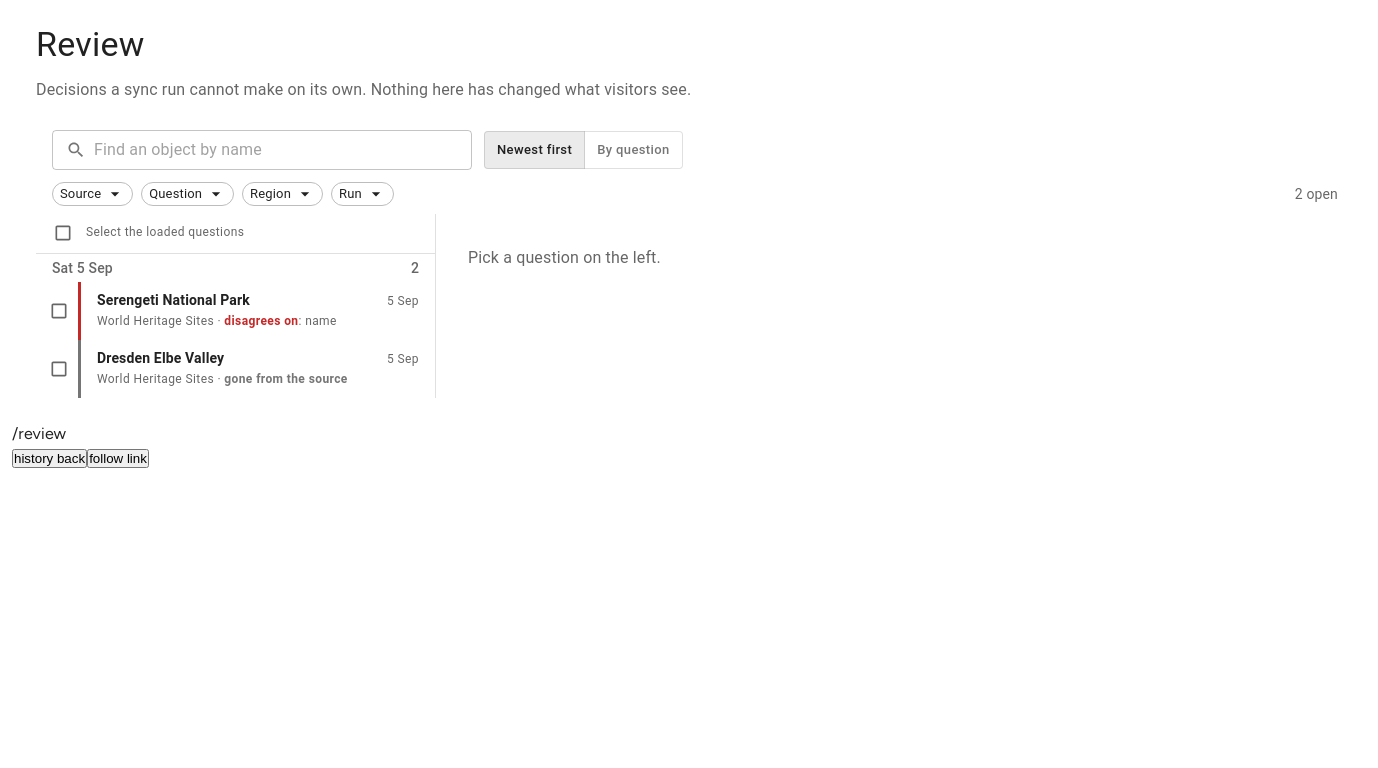
Test: ReviewPage › puts the question a curator opened into the address
Click the button "Dresden Elbe Valley".
click(256, 369)  # box x1=78 y1=340 x2=435 y2=398
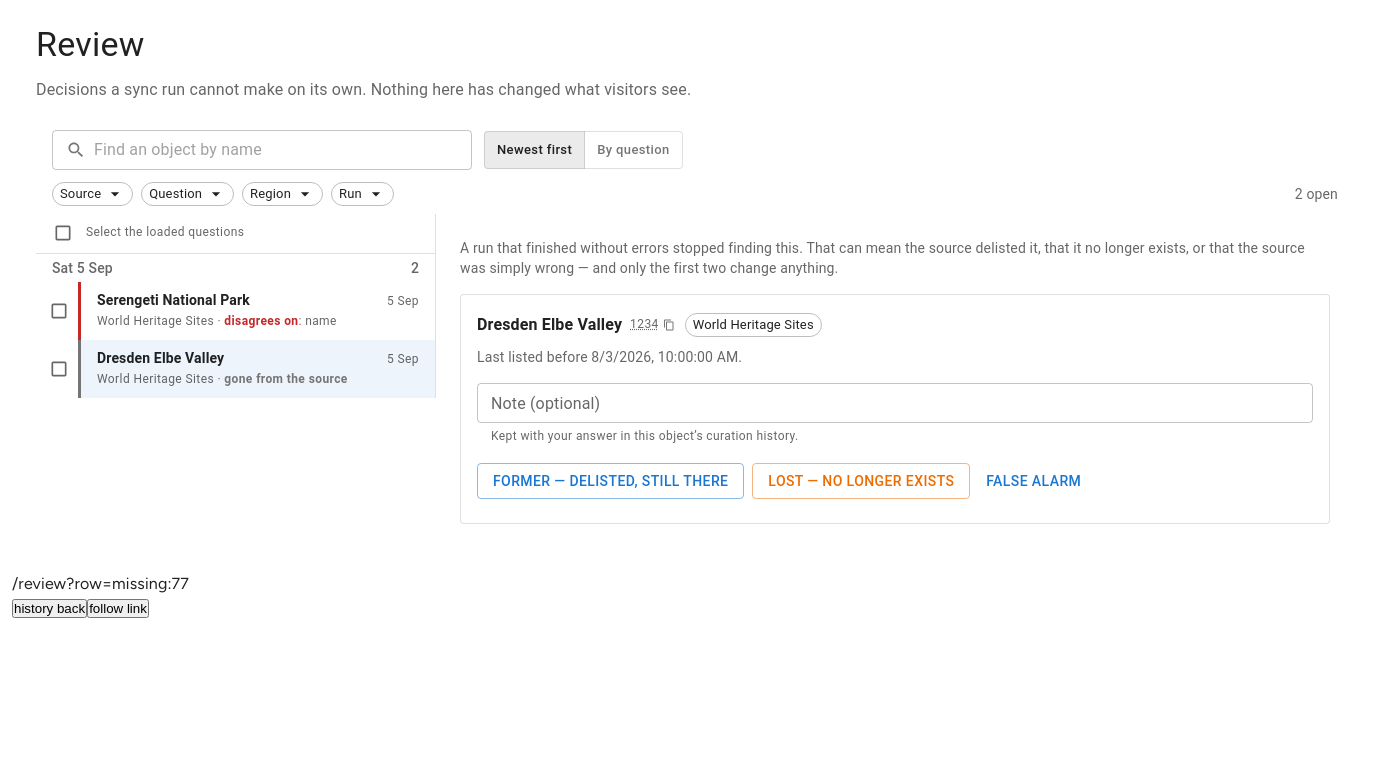
Check: the text with test id "address" reads "/review?row=missing:77", box x1=12 y1=574 x2=189 y2=593
